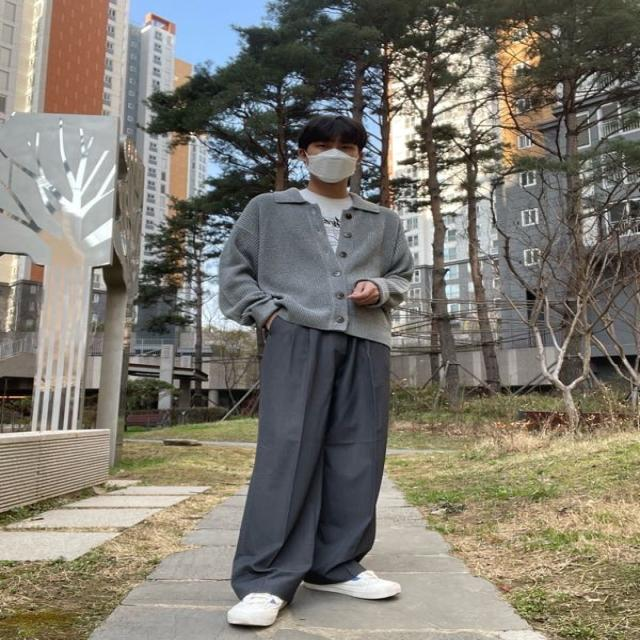cardigan: (216, 188, 415, 351)
slacks: (231, 311, 389, 603)
